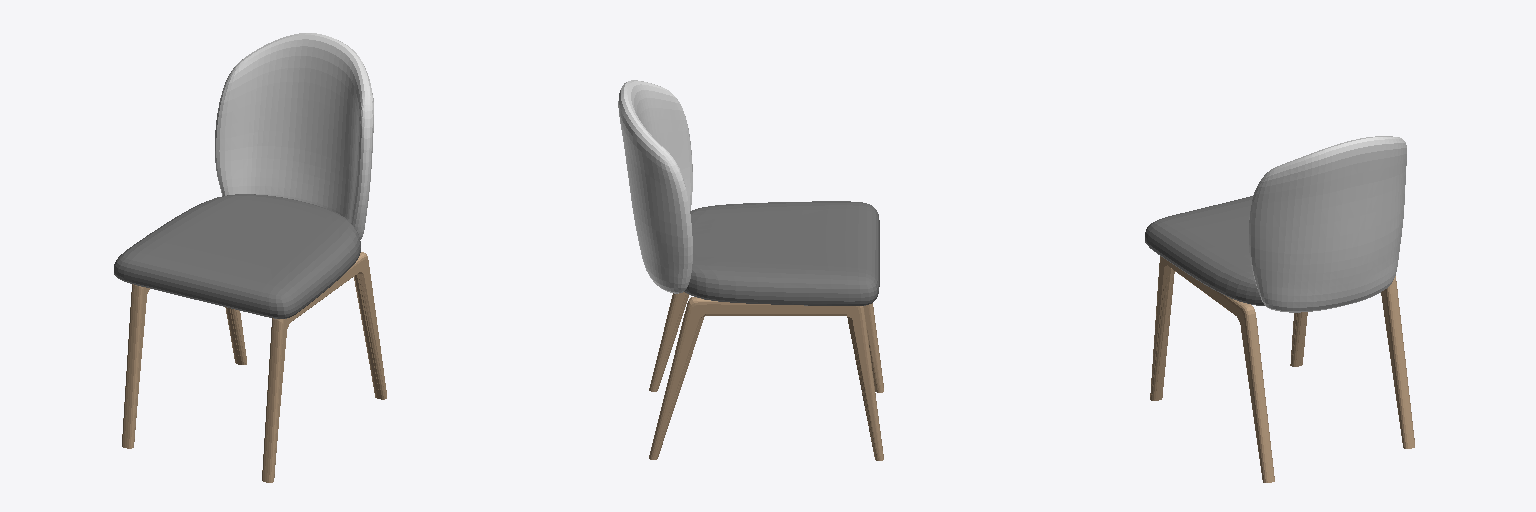
Rendered from chair.obj.
3 renders of one model, left to right at view 1: azimuth 30°, elevation 25°; view 2: azimuth 150°, elevation 25°; view 3: azimuth 270°, elevation 25°, orthographic.
Parts seen in each view (by area): view 1: Mesh1 silla_animacion cristales Model, Mesh4 silla_animacion cristales Model, Mesh2 silla_animacion cristales Model, Mesh3 silla_animacion cristales Model; view 2: Mesh4 silla_animacion cristales Model, Mesh1 silla_animacion cristales Model, Mesh3 silla_animacion cristales Model, Mesh2 silla_animacion cristales Model; view 3: Mesh1 silla_animacion cristales Model, Mesh4 silla_animacion cristales Model, Mesh2 silla_animacion cristales Model, Mesh3 silla_animacion cristales Model.
Part boxes in pixels (x1,y1,x2,y2): Mesh1 silla_animacion cristales Model: (215,33,373,239); Mesh4 silla_animacion cristales Model: (114,194,360,318); Mesh2 silla_animacion cristales Model: (262,252,386,482); Mesh3 silla_animacion cristales Model: (122,284,246,448); Mesh4 silla_animacion cristales Model: (684,201,879,305); Mesh1 silla_animacion cristales Model: (618,80,692,293); Mesh3 silla_animacion cristales Model: (649,297,883,460); Mesh2 silla_animacion cristales Model: (649,292,883,392); Mesh1 silla_animacion cristales Model: (1249,136,1406,312); Mesh4 silla_animacion cristales Model: (1145,196,1264,305); Mesh2 silla_animacion cristales Model: (1150,256,1274,482); Mesh3 silla_animacion cristales Model: (1290,276,1414,448).
Bounding box in the file's own units: 0.5907 × 0.7584 × 0.5562.